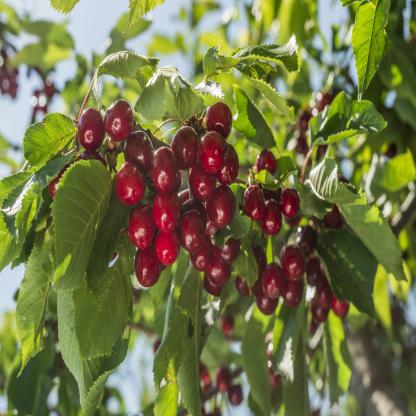cherry leaf: (49, 157, 118, 294), (68, 248, 136, 365), (15, 222, 57, 395), (307, 89, 400, 162), (174, 270, 211, 415), (305, 151, 382, 217), (349, 1, 392, 118), (15, 106, 80, 172), (114, 0, 170, 37)
